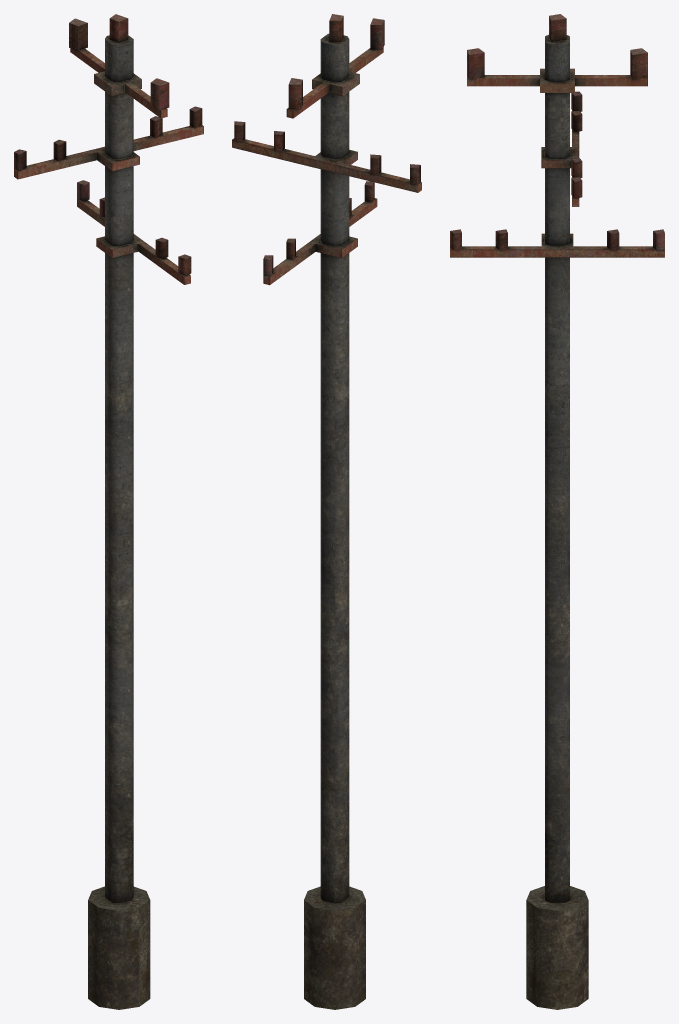
Rendered from UtilityPole_01.FBX.
3 views of the same model, side by side, from view 1: azimuth 30°, elevation 25°; view 2: azimuth 150°, elevation 25°; view 3: azimuth 270°, elevation 25° (orthographic).
Parts seen in each view (by area): view 1: UtilityPole_01; view 2: UtilityPole_01; view 3: UtilityPole_01.
Boxes of the visible parts, x1,y1,x2,y2 form: UtilityPole_01: (14, 14, 203, 1009); UtilityPole_01: (232, 14, 421, 1009); UtilityPole_01: (450, 14, 664, 1009).
Size of the model in its own units: 68.5 by 344 by 68.5.
